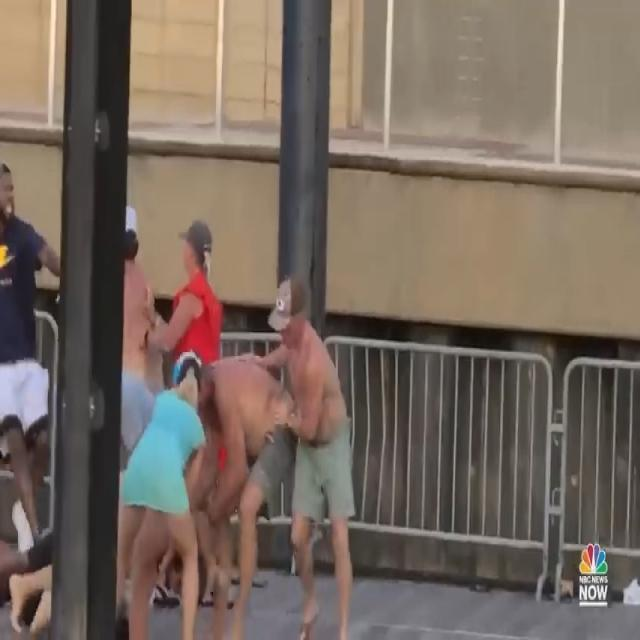fight: (0, 150, 355, 640)
